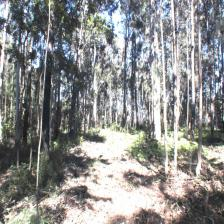trunktrack_idkeyframe: (195, 102, 202, 176), (164, 116, 168, 174)
